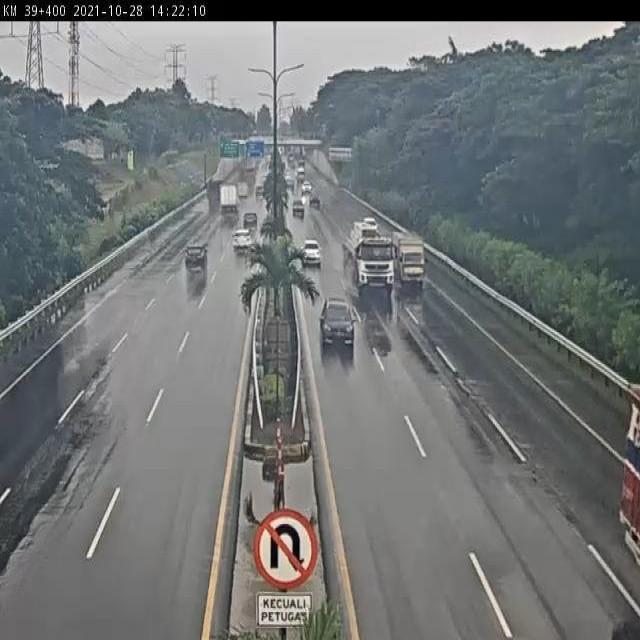car: (318, 291, 355, 348), (183, 238, 209, 274), (298, 237, 323, 268), (229, 228, 255, 257)
truck-s-: (391, 227, 428, 290)
truck-xl-: (343, 216, 397, 293)
